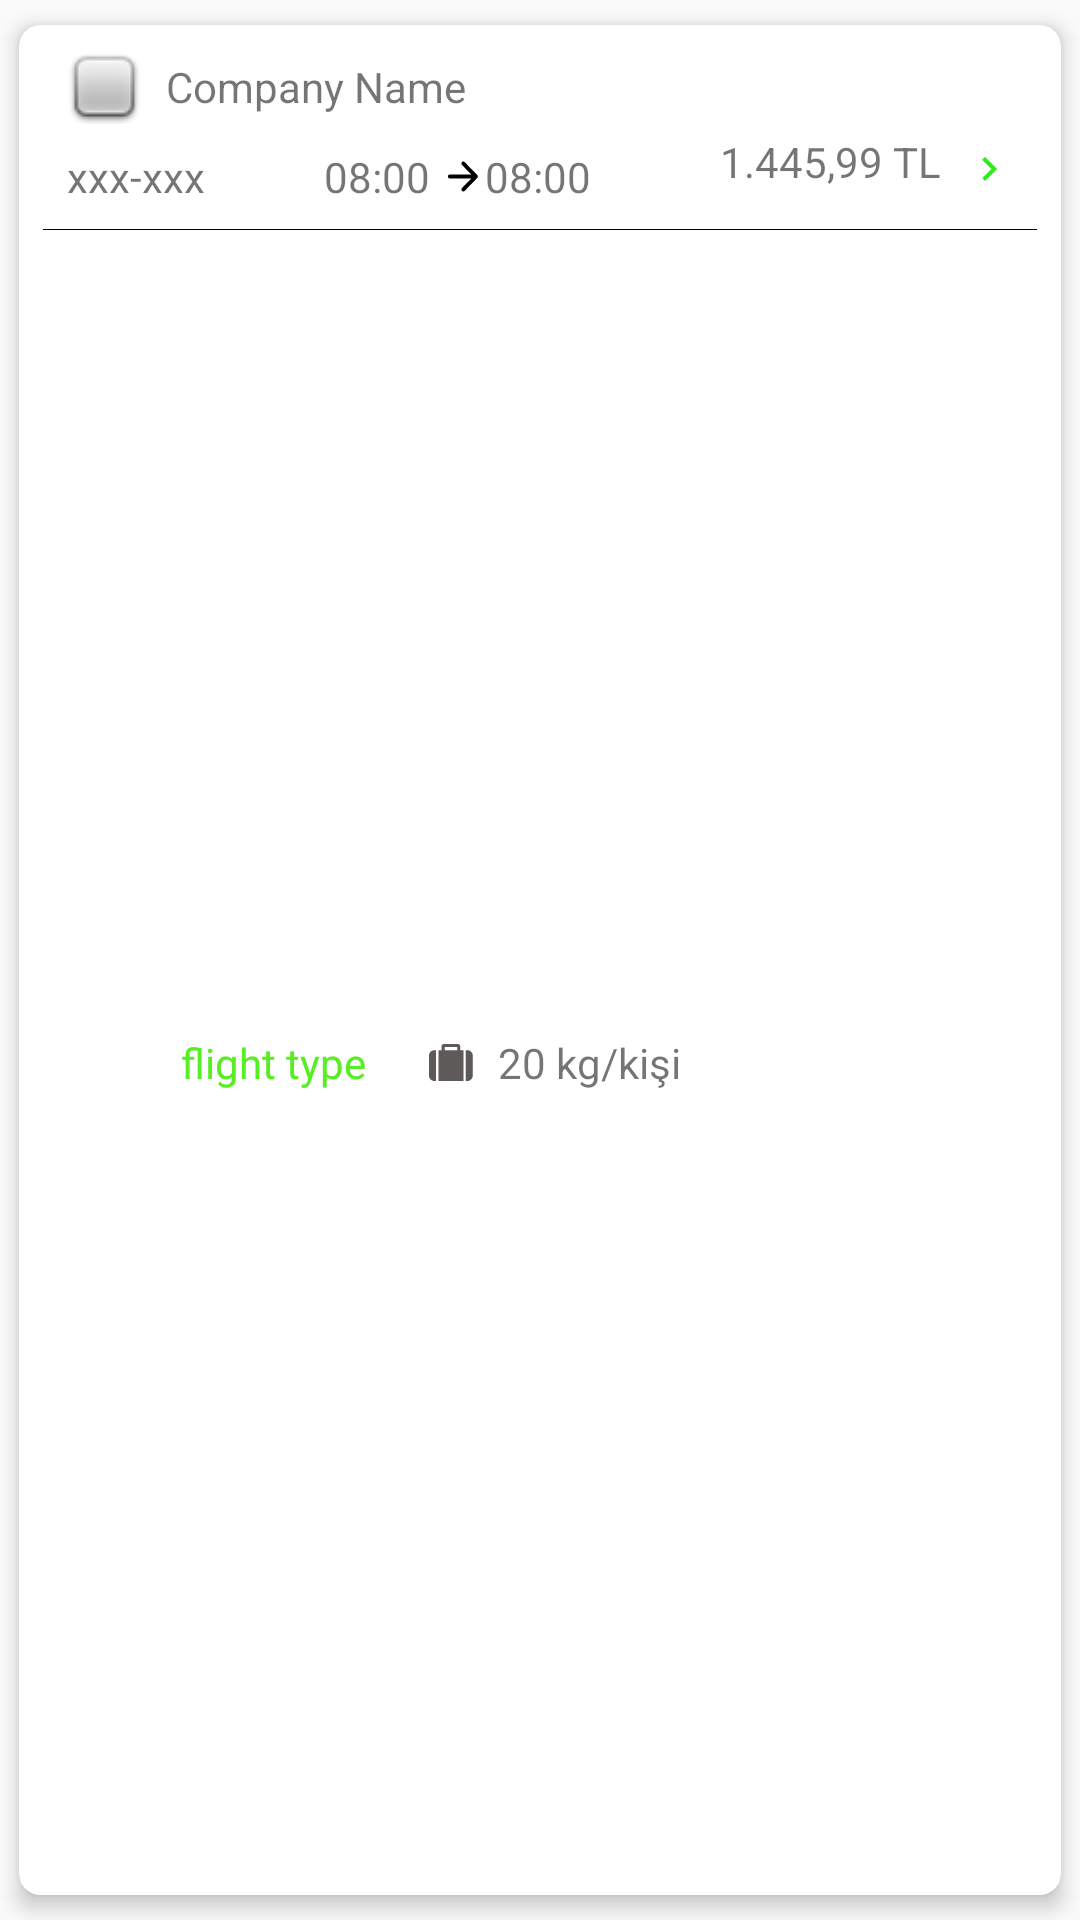

Icon bounding boxes for this 1080×1920 phone screenshot, format [left=x1, top=y1, right=x2, bottom=y2]:
arrow right: [left=448, top=161, right=478, bottom=192]
chevron right: [left=982, top=157, right=997, bottom=181]
luggage: [left=429, top=1044, right=473, bottom=1081]
